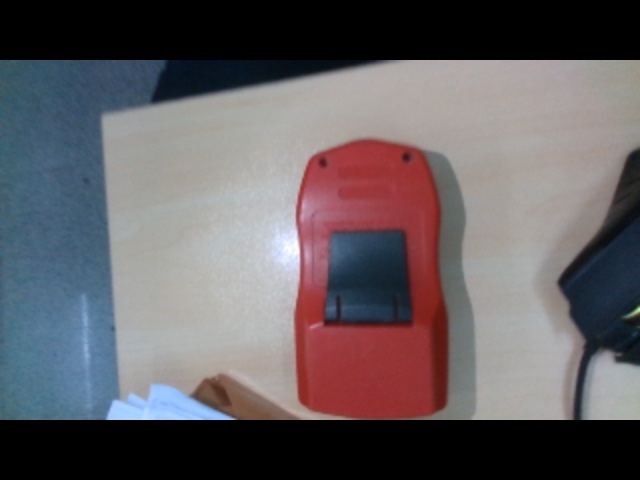Multimeter: (291, 135, 454, 416)
Screw holes: (316, 154, 329, 169), (402, 152, 414, 165)
